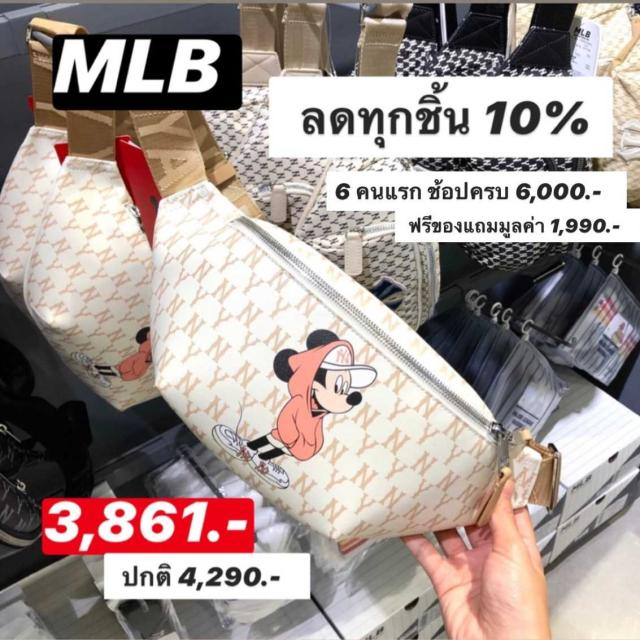Handbag: (138, 106, 556, 558)
